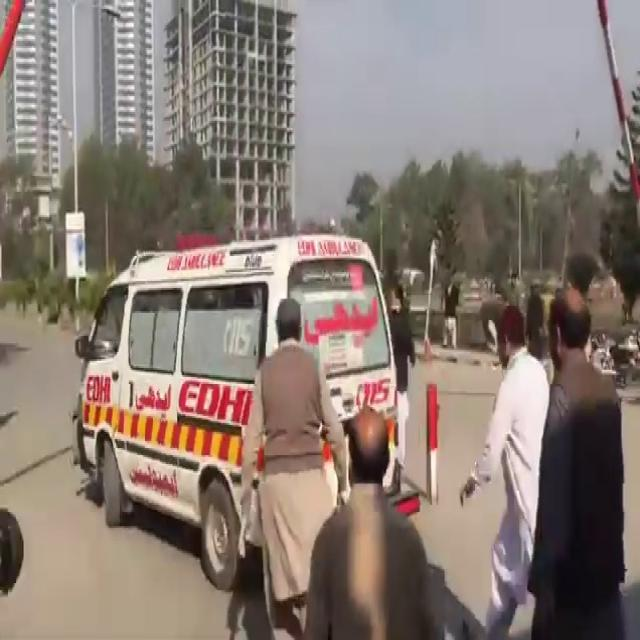ambulance: (62, 208, 472, 536), (75, 212, 466, 554)
